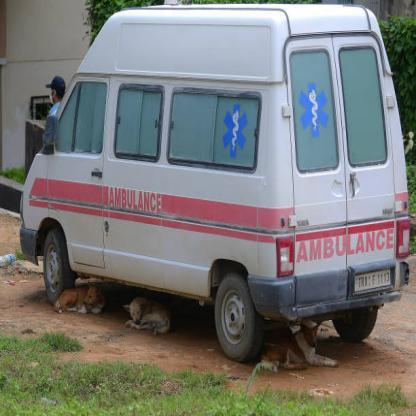Ambulance: (294, 225, 398, 266), (299, 82, 330, 137), (219, 102, 250, 156), (108, 187, 164, 213)
